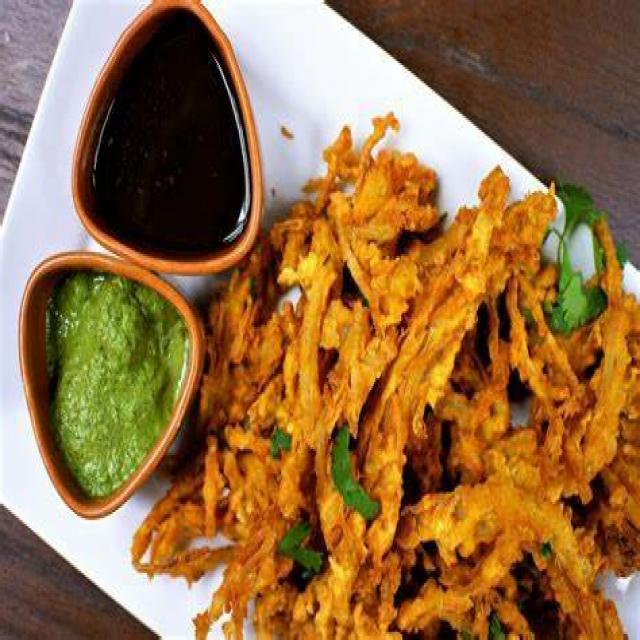Onion Pakora: (208, 89, 640, 640)
